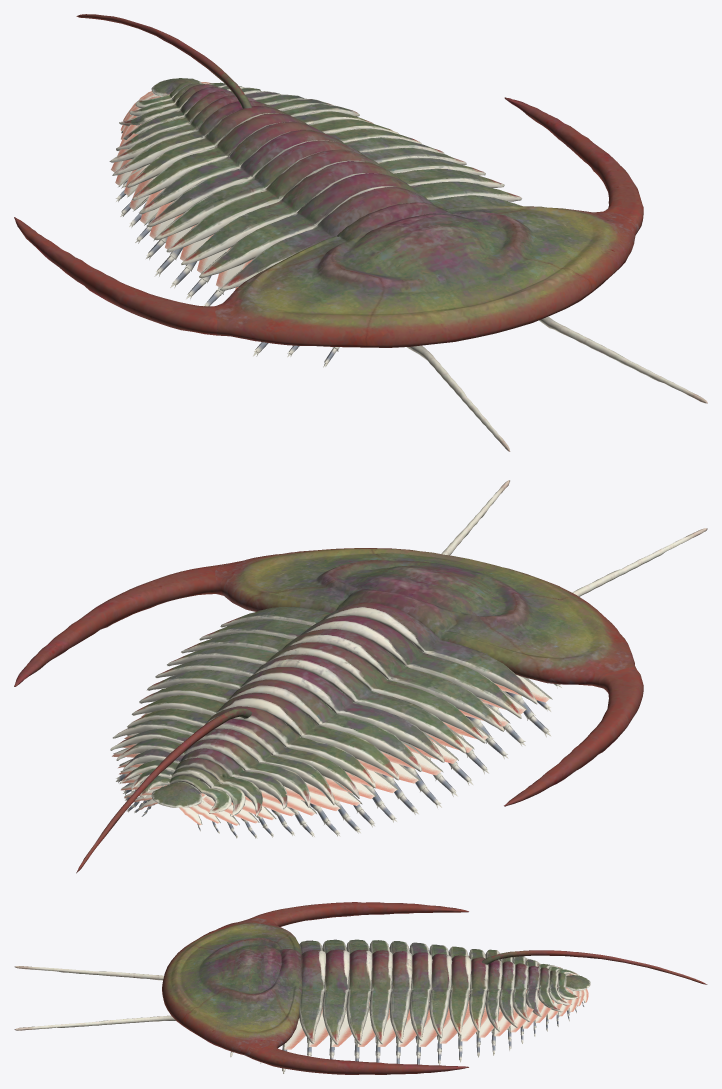
The model's file is ehrlichia.glb.
The picture shows the model from 3 angles, top to bottom: view 1: azimuth 30°, elevation 25°; view 2: azimuth 150°, elevation 25°; view 3: azimuth 270°, elevation 25°; orthographic projection. The views are drawn at different scales.
Visible parts, largest first — view 1: eoredlichia1; view 2: eoredlichia1; view 3: eoredlichia1.
Boxes of the visible parts, bbox=[...] form: eoredlichia1: bbox=[14, 14, 707, 451]; eoredlichia1: bbox=[14, 480, 707, 873]; eoredlichia1: bbox=[14, 902, 707, 1074].
Size of the model in its own units: 1.43 by 0.3131 by 2.52.
Materials: 1 (1 with a texture image).
